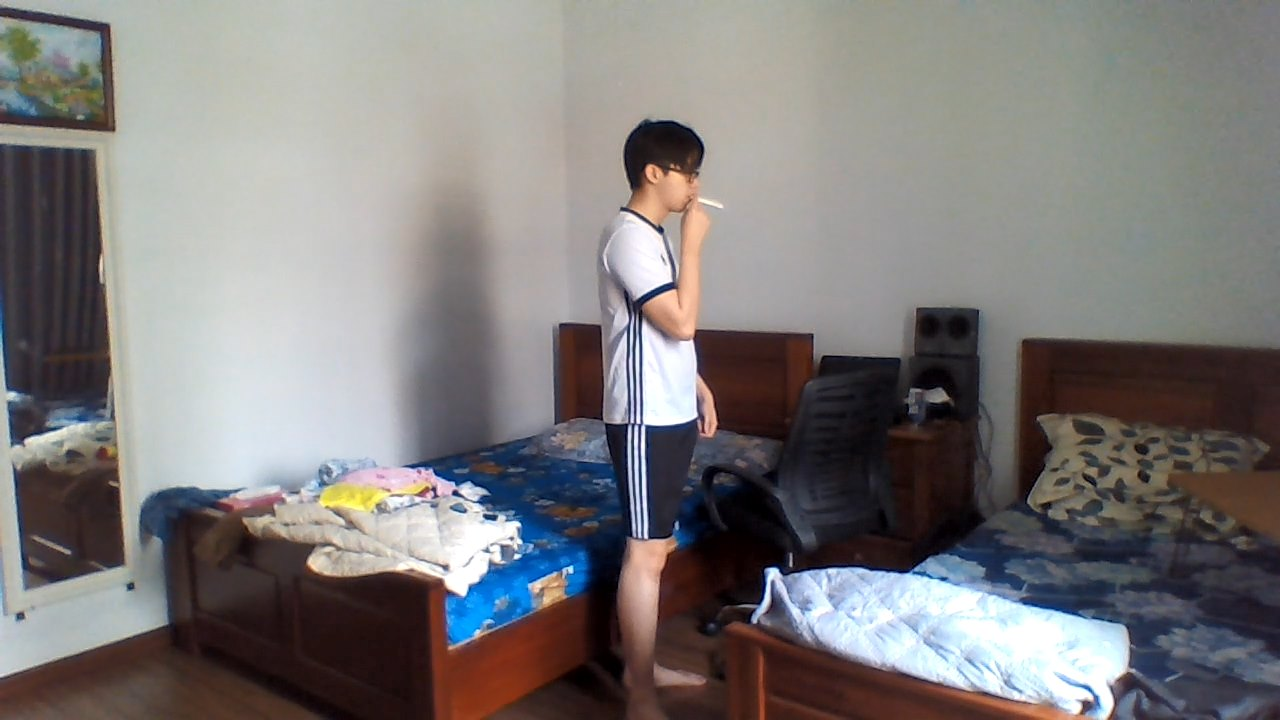cigarette: (697, 193, 727, 214)
person: (564, 98, 733, 720)
